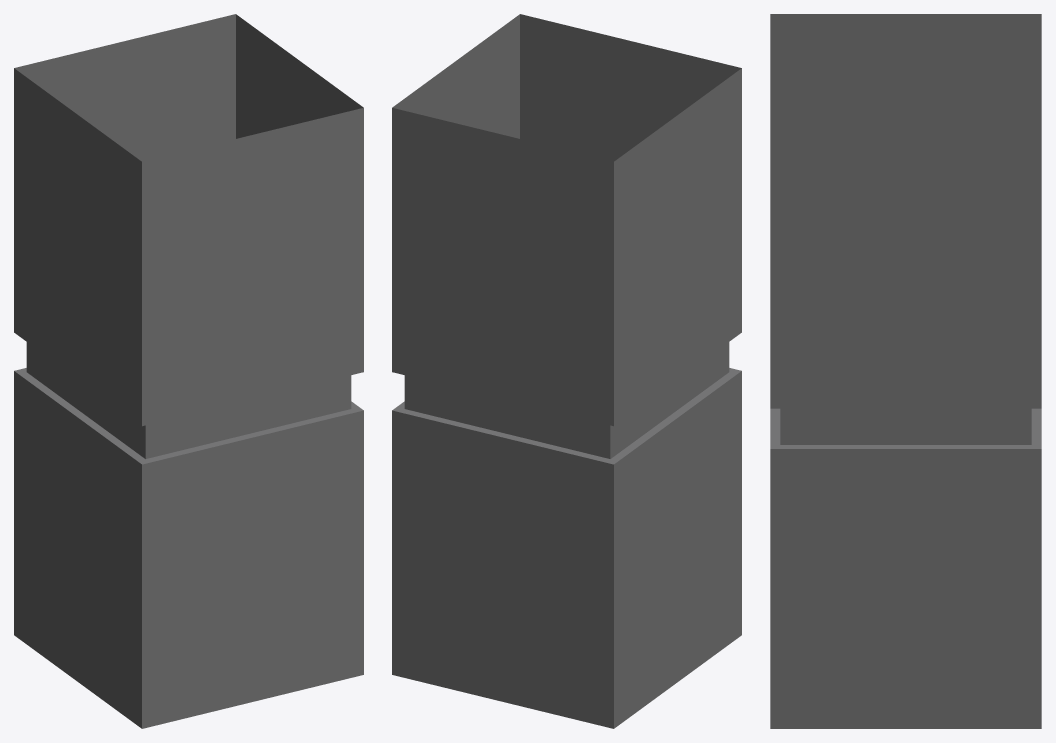
File: SM_Pillar_01_A.glb
The picture shows the model from 3 angles, left to right: view 1: azimuth 30°, elevation 25°; view 2: azimuth 150°, elevation 25°; view 3: azimuth 270°, elevation 25°; orthographic projection. The views are drawn at different scales.
Visible parts, largest first — view 1: SM_Pillar_01_A; view 2: SM_Pillar_01_A; view 3: SM_Pillar_01_A.
Part boxes in pixels (left/top/right/bottom): SM_Pillar_01_A: left=14, top=14, right=363, bottom=728; SM_Pillar_01_A: left=392, top=14, right=741, bottom=728; SM_Pillar_01_A: left=770, top=14, right=1041, bottom=728.
Bounding box in the file's own units: 0.4093 × 1 × 0.4093.
1 material, 1 textured.
